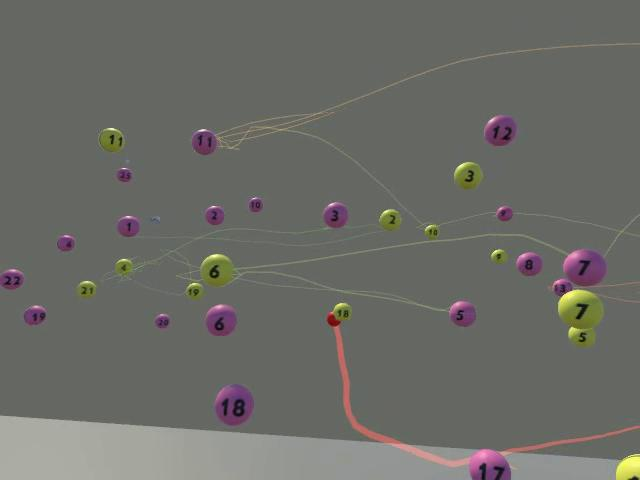ball_01_pink: (116, 215, 139, 237)
ball_02_pink: (204, 205, 224, 225)
ball_02_yellow: (379, 210, 401, 230)
ball_03_pink: (322, 201, 348, 228)
ball_03_yellow: (453, 161, 482, 189)
ball_04_pink: (56, 235, 75, 251)
ball_04_yellow: (115, 258, 133, 274)
ball_05_pink: (448, 302, 476, 326)
ball_05_yellow: (567, 326, 595, 347)
ball_06_pink: (205, 305, 238, 337)
ball_06_yellow: (199, 253, 233, 286)
ball_07_pink: (562, 248, 606, 286)
ball_07_yellow: (557, 288, 603, 328)
ball_08_pink: (516, 252, 543, 275)
ball_09_pink: (496, 205, 512, 221)
ball_09_yellow: (490, 250, 507, 266)
ball_10_pink: (248, 197, 263, 211)
ball_10_yellow: (424, 224, 439, 239)
ball_11_pink: (191, 128, 217, 155)
ball_11_yellow: (98, 127, 124, 152)
ball_12_pink: (484, 115, 515, 146)
ball_13_pink: (552, 278, 573, 296)
ball_18_pink: (214, 385, 253, 425)
ball_18_yellow: (333, 302, 351, 320)
ball_19_pink: (24, 306, 46, 325)
ball_19_yellow: (185, 282, 203, 299)
ball_20_pink: (155, 314, 169, 328)
ball_21_yellow: (76, 280, 96, 297)
ball_22_pink: (0, 269, 24, 289)
ball_25_pink: (116, 167, 131, 182)
ball_unknown: (468, 448, 510, 479), (615, 453, 639, 479), (326, 311, 340, 326)
